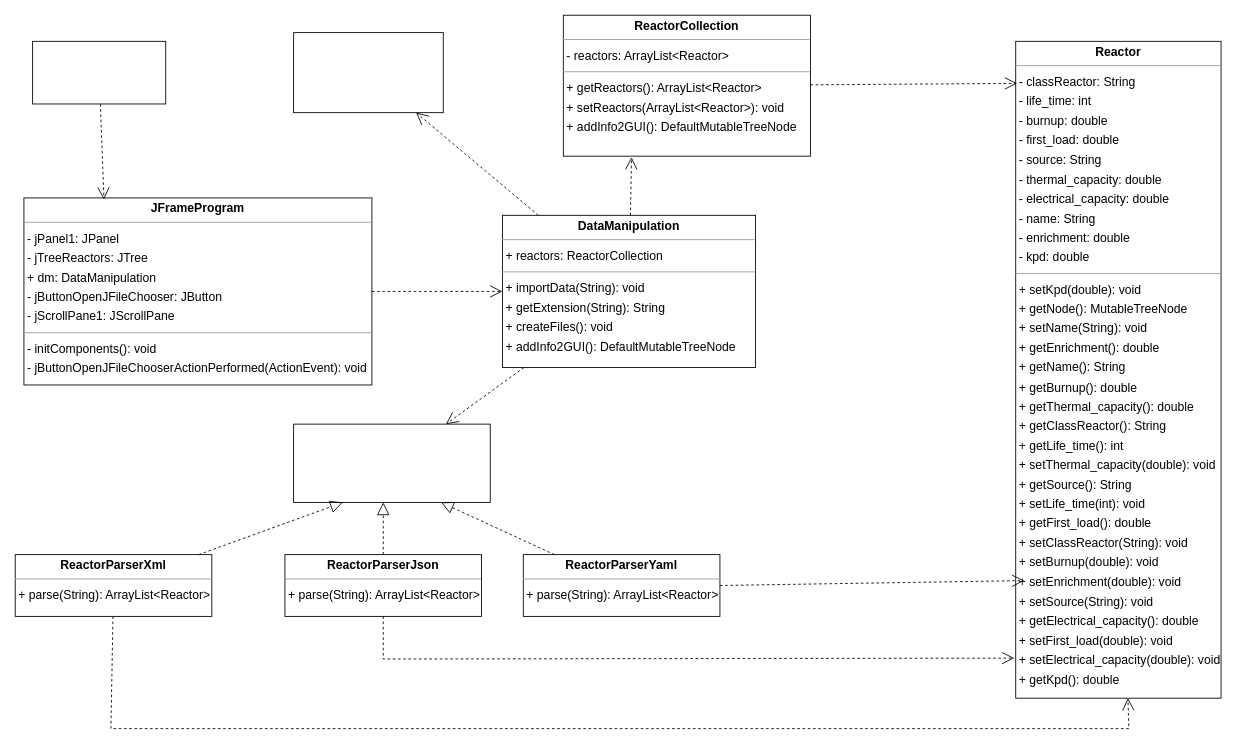
Some shapes in this 1236 by 756 pixel diagram are drawn without their labels. Each missing label, with the centre of its shape:
<<interface>> ReactorParser + parse(String): ArrayList<Reactor>: point (391, 462)
ConvertJson2types + convert2xml(): void + convert2yaml(): void: point (368, 72)
Main + main(String[]): void: point (99, 72)
